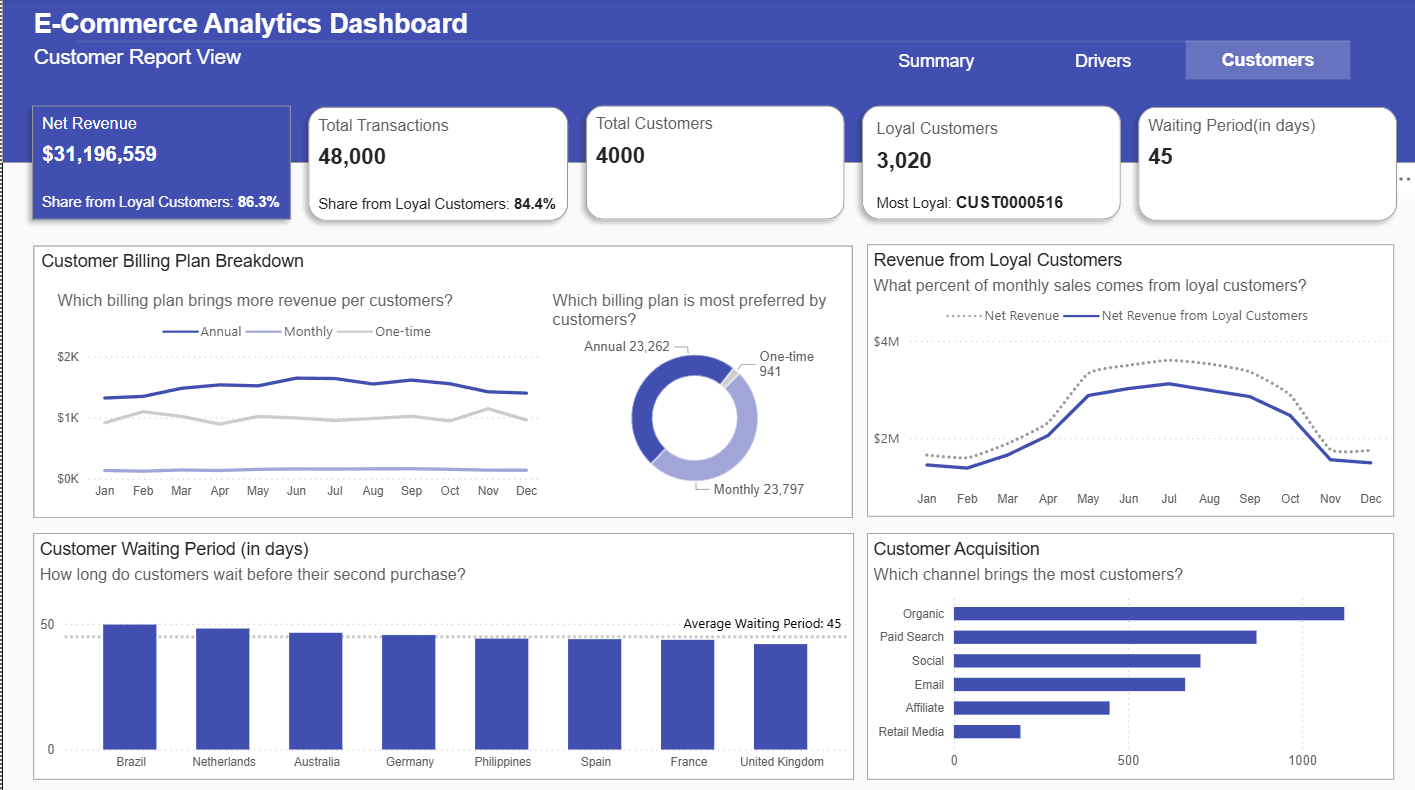

This screenshot's page, from the dashboard's own definition file:
{"tool":"powerbi","page":{"name":"Customers","canvas":[1280,720],"ordinal":2},"visuals":[{"type":"shape","box":[0,0,1280,149],"z":0},{"type":"shape","box":[28.1,223.5,741.4,246.7],"z":1000},{"type":"columnChart","title":"Customer Waiting Period (in days)","fields":{"Category":["Customers.country"],"Y":["Avg(Customers.waiting_period(1st-2nd))"]},"box":[28,484.1,742.4,222.9],"z":2000},{"type":"lineChart","title":"Which billing plan brings more revenue per customers?","fields":{"Y":["Events.Revenue per Customer"],"Category":["Date.MonthName"],"Series":["Products.billing_cycle"]},"box":[45.2,260.2,448.2,200.3],"z":3000},{"type":"cardVisual","fields":{"Data":["Customers.Loyal Customers"]},"box":[770,89.2,250,119],"z":4000},{"type":"lineChart","title":"Revenue from Loyal Customers","fields":{"Y":["Events.Total Revenue","Customers.Revenue of Loyal customers"],"Category":["Date.MonthName"]},"box":[782.3,222.9,476.8,246.5],"z":5000},{"type":"textbox","box":[24.3,5.7,760,38.6],"z":6000},{"type":"textbox","box":[24.3,38.6,760,35.7],"z":7000},{"type":"cardVisual","fields":{"Data":["Avg(Customers.waiting_period(1st-2nd))"]},"box":[1020,90.5,250,119],"z":8000},{"type":"cardVisual","fields":{"Data":["Events.Total Revenue"]},"box":[18.8,89.9,250,119],"z":9000},{"type":"cardVisual","fields":{"Data":["Customers.Total Customers"]},"box":[520,89.9,250,119],"z":10000},{"type":"cardVisual","fields":{"Data":["Events.Total Orders"]},"box":[268.8,90.5,251.2,119],"z":11000},{"type":"donutChart","title":"Which billing plan is most preferred by customers?","fields":{"Y":["Events.Total Transactions"],"Category":["Products.billing_cycle"]},"box":[493.4,260.2,267.5,200.3],"z":12000},{"type":"textbox","box":[30.5,223.5,291.9,29.3],"z":13000},{"type":"barChart","title":"Customer Acquisition","fields":{"Y":["Customers.Total Customers"],"Category":["Customers.acquisition_channel"]},"box":[782,484,477,223],"z":14000},{"type":"shape","box":[66.4,26.6,1152.8,26.6],"z":15000},{"type":"actionButton","box":[770,40,150,34.4],"z":16000},{"type":"actionButton","box":[920,40,151.1,34.4],"z":17000},{"type":"actionButton","box":[1071.1,38.9,148.9,35.6],"z":18000}]}

Visuals, with their boxes in screenshot pixels (x1, y1, x2, y2), scaled from the page's 1280x720 canvas onto the 1415x790 screenshot:
shape: pyautogui.locateOnScreen(0, 0, 1414, 163)
shape: pyautogui.locateOnScreen(31, 245, 851, 516)
"Customer Waiting Period (in days)" columnChart: pyautogui.locateOnScreen(31, 531, 852, 776)
"Which billing plan brings more revenue per customers?" lineChart: pyautogui.locateOnScreen(50, 285, 545, 505)
cardVisual - Customers.Loyal Customers: pyautogui.locateOnScreen(851, 98, 1128, 228)
"Revenue from Loyal Customers" lineChart: pyautogui.locateOnScreen(865, 245, 1392, 515)
textbox: pyautogui.locateOnScreen(27, 6, 867, 49)
textbox: pyautogui.locateOnScreen(27, 42, 867, 82)
cardVisual - Avg(Customers.waiting_period(1st-2nd)): pyautogui.locateOnScreen(1128, 99, 1404, 230)
cardVisual - Events.Total Revenue: pyautogui.locateOnScreen(21, 99, 297, 229)
cardVisual - Customers.Total Customers: pyautogui.locateOnScreen(575, 99, 851, 229)
cardVisual - Events.Total Orders: pyautogui.locateOnScreen(297, 99, 575, 230)
"Which billing plan is most preferred by customers?" donutChart: pyautogui.locateOnScreen(545, 285, 841, 505)
textbox: pyautogui.locateOnScreen(34, 245, 356, 277)
"Customer Acquisition" barChart: pyautogui.locateOnScreen(864, 531, 1392, 776)
shape: pyautogui.locateOnScreen(73, 29, 1348, 58)
actionButton: pyautogui.locateOnScreen(851, 44, 1017, 82)
actionButton: pyautogui.locateOnScreen(1017, 44, 1184, 82)
actionButton: pyautogui.locateOnScreen(1184, 43, 1349, 82)
